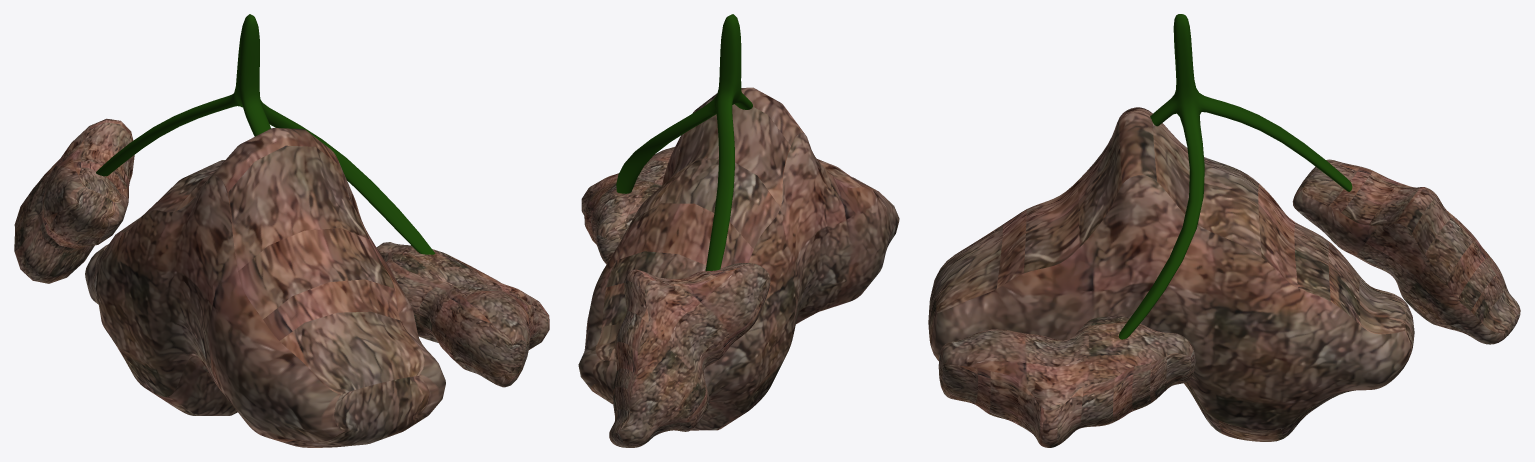
File: yam_harvest.glb
3 views of the same model, side by side, from view 1: azimuth 30°, elevation 25°; view 2: azimuth 150°, elevation 25°; view 3: azimuth 270°, elevation 25° (orthographic). The views are drawn at different scales.
Visible parts, largest first — view 1: Plane, Plane.001, Plane.002, Plane.003; view 2: Plane, Plane.002, Plane.003, Plane.001; view 3: Plane, Plane.001, Plane.002, Plane.003.
Boxes of the visible parts, left/top/right/bottom form: Plane: left=85, top=128, right=445, bottom=447; Plane.001: left=376, top=242, right=549, bottom=387; Plane.002: left=14, top=118, right=134, bottom=283; Plane.003: left=96, top=14, right=435, bottom=254; Plane: left=578, top=87, right=899, bottom=430; Plane.002: left=609, top=263, right=770, bottom=447; Plane.003: left=616, top=14, right=752, bottom=271; Plane.001: left=581, top=147, right=674, bottom=264; Plane: left=928, top=107, right=1414, bottom=441; Plane.001: left=938, top=316, right=1195, bottom=447; Plane.002: left=1292, top=159, right=1520, bottom=344; Plane.003: left=1119, top=14, right=1352, bottom=339.
Bounding box in the file's own units: 3.62 × 4.24 × 5.43.
Materials: 2 (1 with a texture image).
